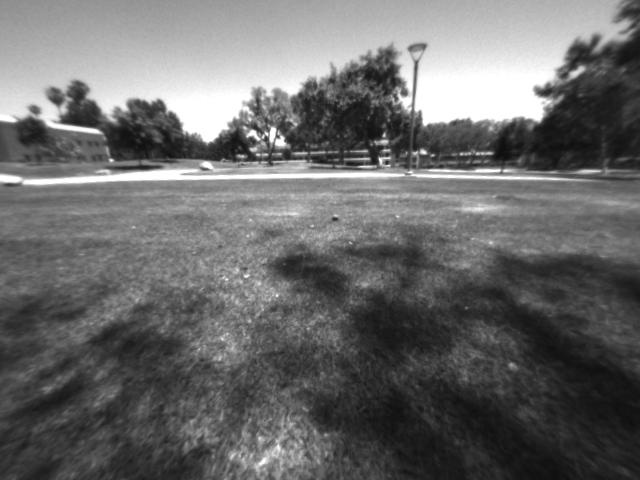dogtoy: (323, 207, 349, 227)
